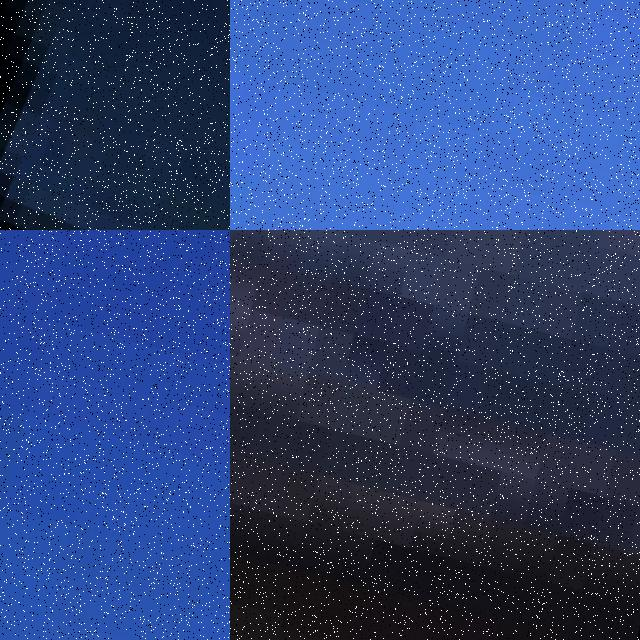drone: (0, 0, 230, 230)
